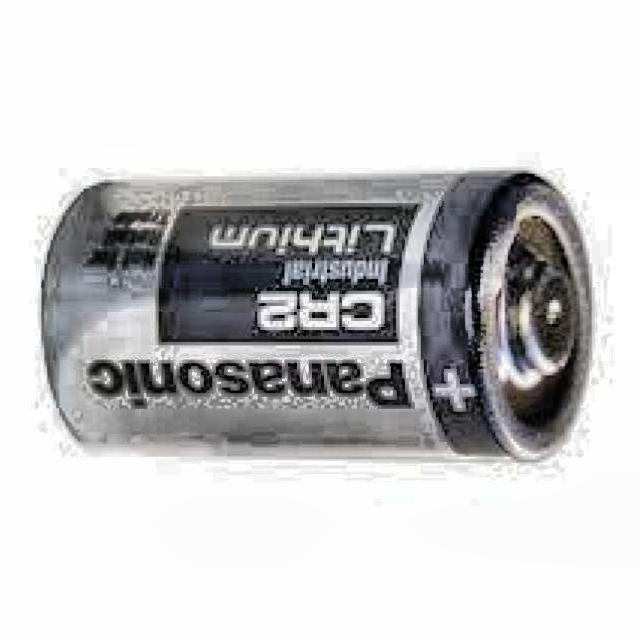Non-Valuable Waste - Batteries: (41, 170, 594, 466)
